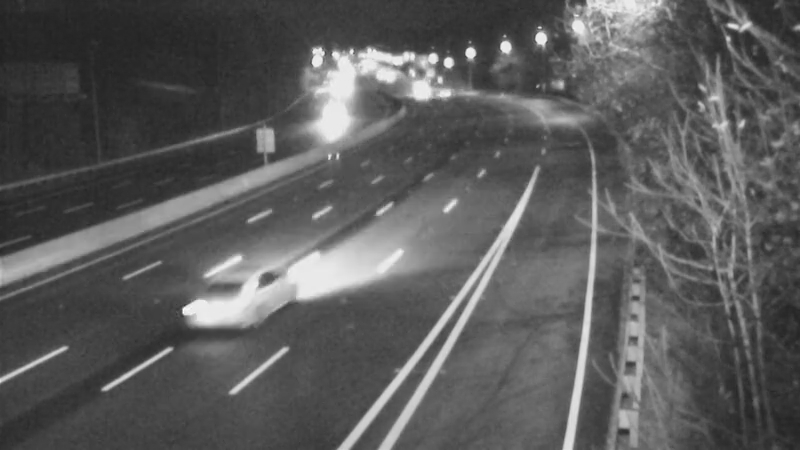vehicle: (167, 255, 277, 365), (395, 60, 445, 110), (423, 64, 473, 114), (399, 71, 449, 121), (306, 98, 356, 148)
